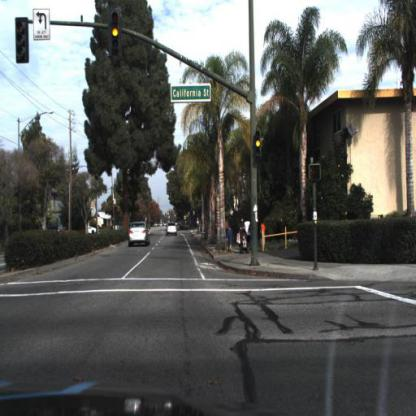car: (127, 222, 151, 250), (167, 221, 179, 238)
pedestrian: (237, 217, 248, 252), (227, 224, 236, 254), (260, 221, 267, 257)
trafficLight-Yellow: (252, 135, 265, 154), (256, 129, 261, 160)
